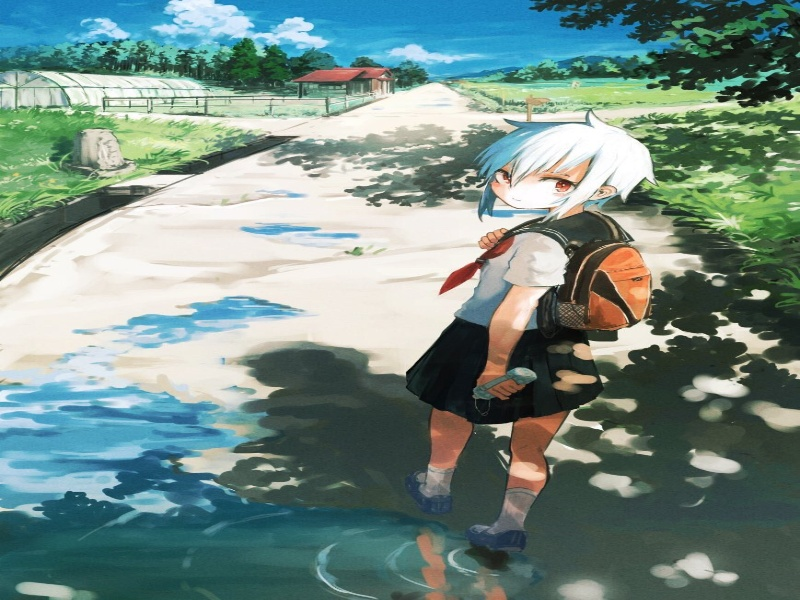dress: (400, 299, 609, 430)
person: (457, 110, 669, 224)
